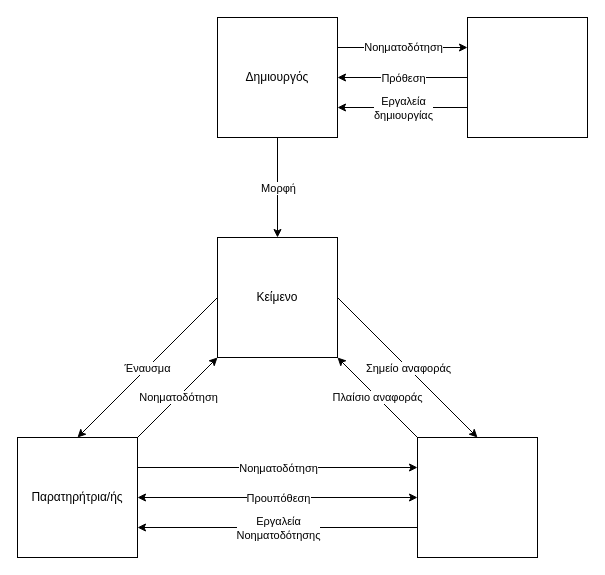
The diagram is 605 pixels wide and 575 high, and some of its shapes have lost their labels. Here are the shapes that lost their labels. From the top down, the box of each, then its label:
(466, 16, 588, 138): Χώρος / συγκυρία δημιουργίας (authoring context)
(416, 436, 538, 558): Χώρος / συγκυρία ανάγνωσης (reading context)
